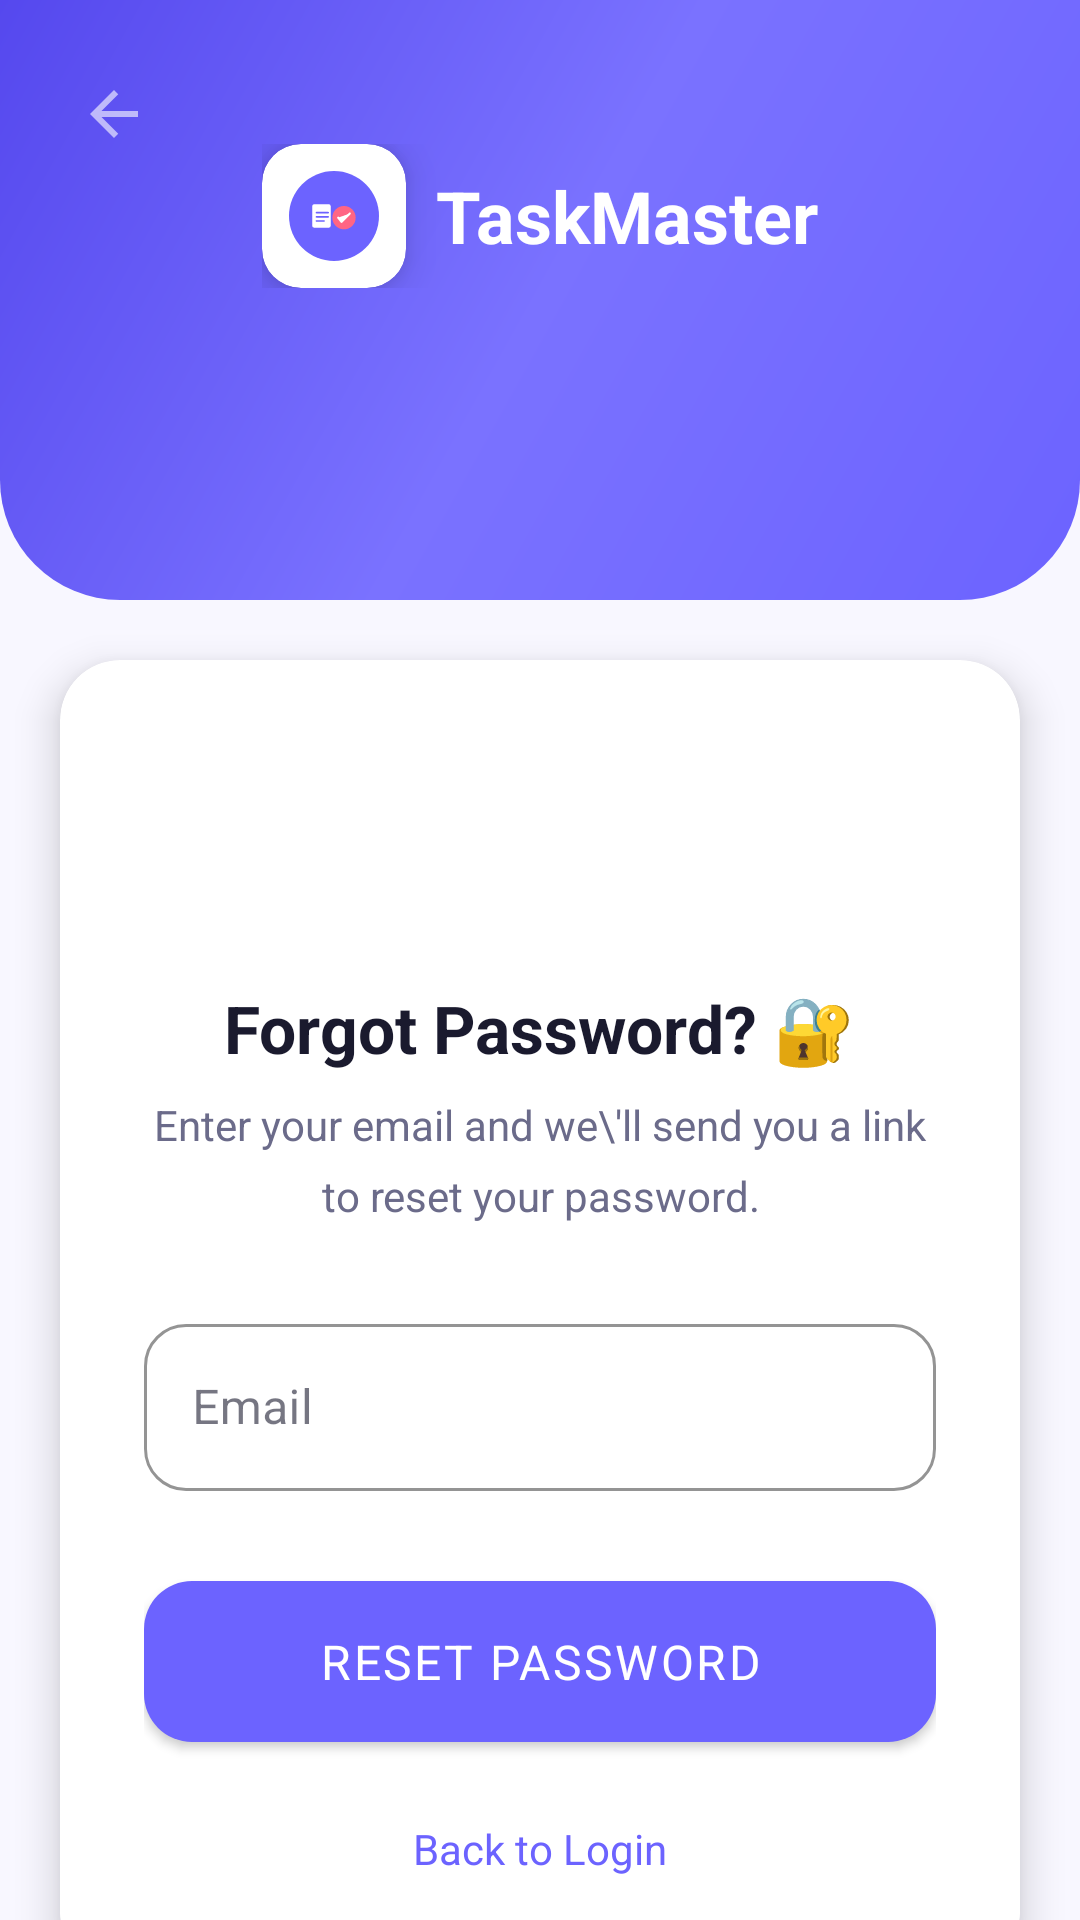

Icons on this 1080px x 1920px Android screen, each with its box as {"x1": x1, "y1": y1, "x2": x2, "y2": y2}:
back: {"x1": 90, "y1": 90, "x2": 138, "y2": 138}
